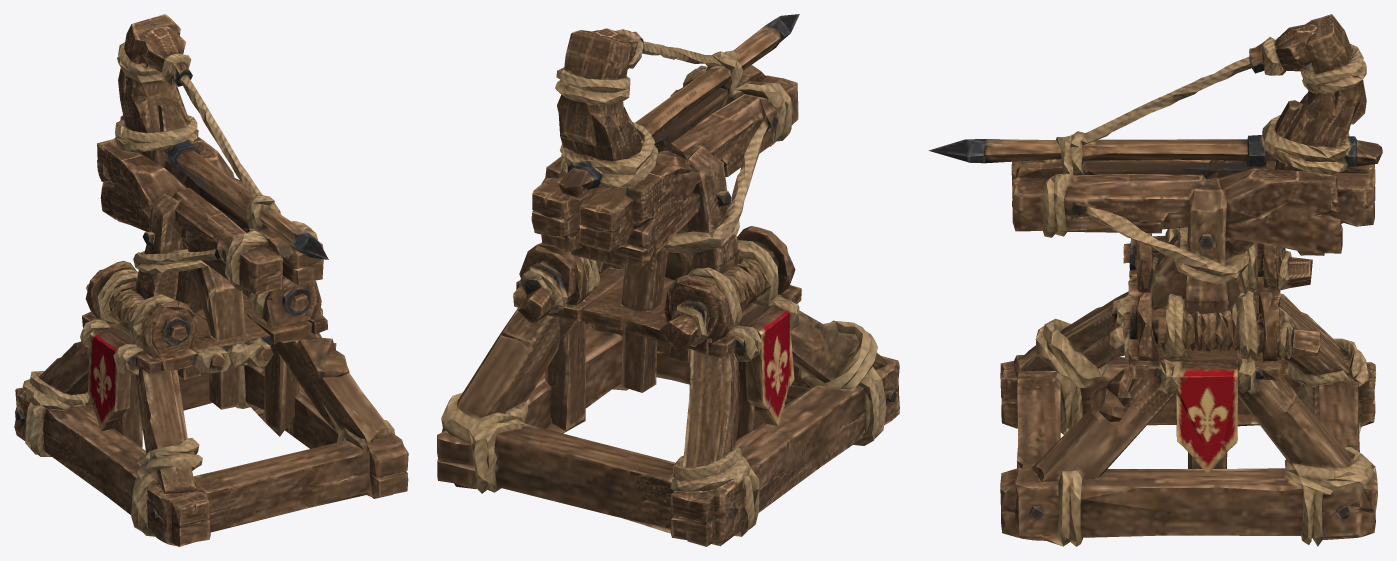
Rendered from ballista-1.glb.
The picture shows the model from 3 angles, left to right: view 1: azimuth 30°, elevation 25°; view 2: azimuth 150°, elevation 25°; view 3: azimuth 270°, elevation 25°; orthographic projection. The views are drawn at different scales.
Parts seen in each view (by area): view 1: output_unwrapped; view 2: output_unwrapped; view 3: output_unwrapped.
Boxes of the visible parts, x1,y1,x2,y2 form: output_unwrapped: (14,14,408,546); output_unwrapped: (437,14,899,546); output_unwrapped: (928,14,1382,546).
Size of the model in its own units: 1.28 by 1.9 by 1.71.
1 material, 1 textured.
